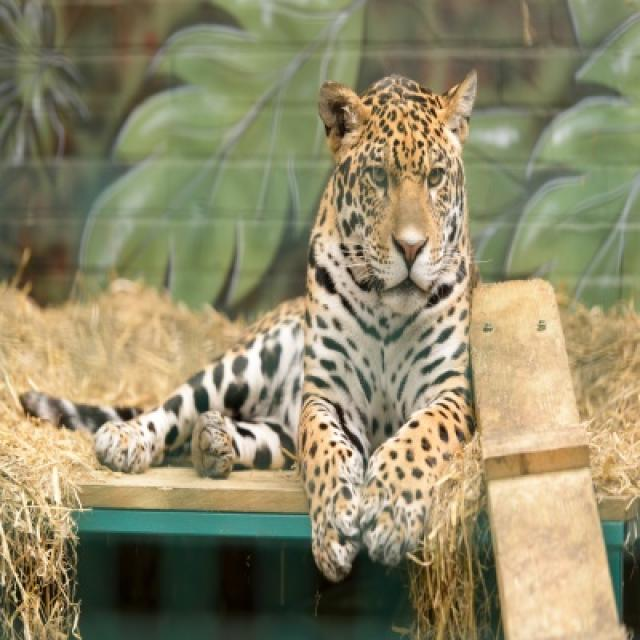Jaguar: (27, 72, 480, 586)
